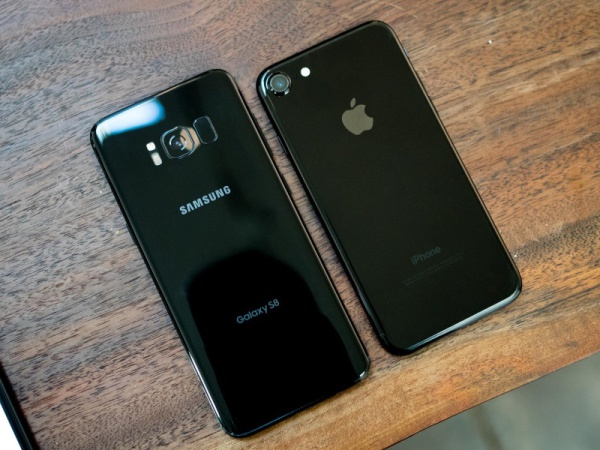apple: (337, 94, 383, 143)
